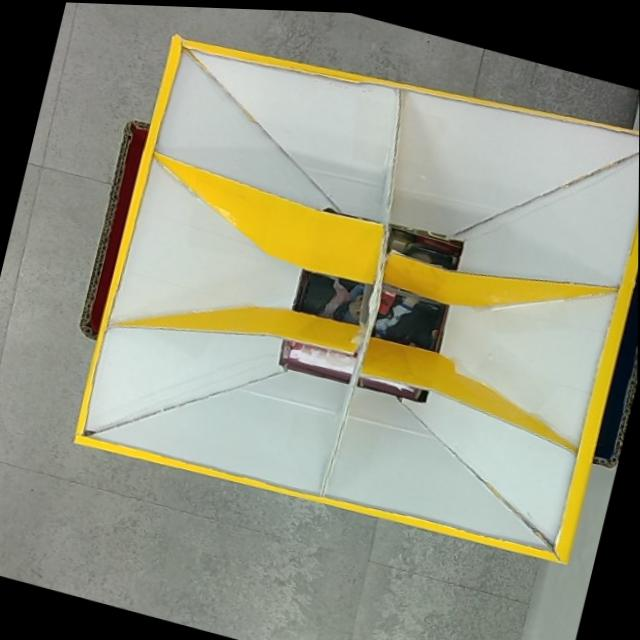box: (50, 2, 640, 575)
